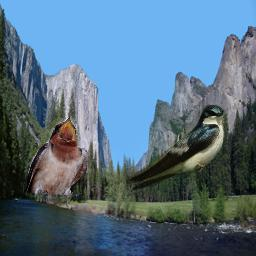Swallow: (126, 104, 226, 192), (25, 116, 88, 200)
